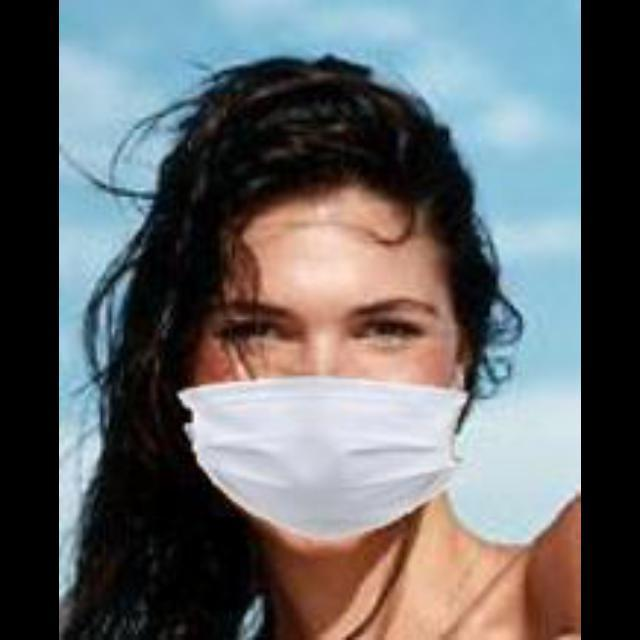suspicion: (170, 132, 492, 546)
